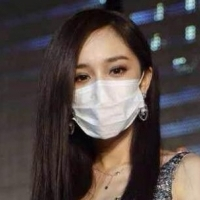face_mask: (64, 29, 139, 135)
